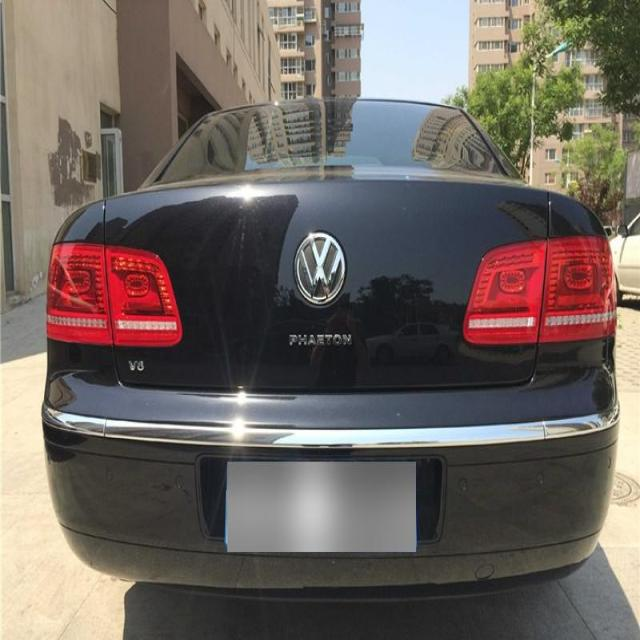back_glass: (155, 103, 528, 187)
back_left_side_light: (46, 238, 183, 349)
back_right_side_light: (457, 234, 618, 352)
rear_bumper: (39, 397, 622, 594)
